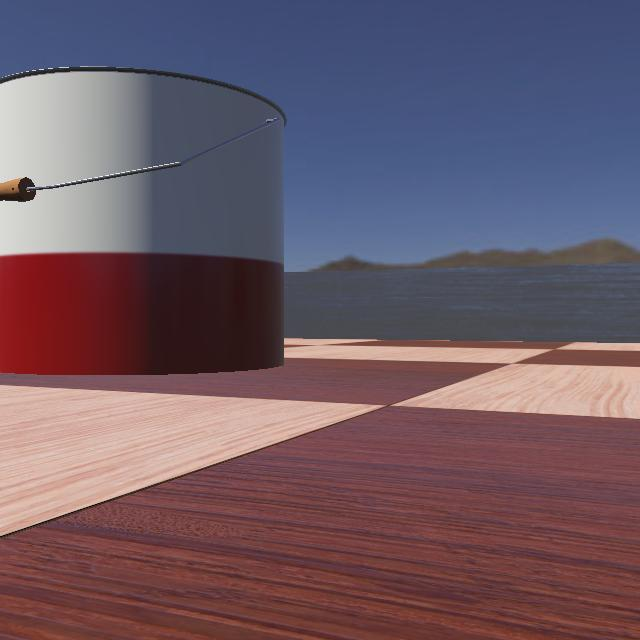paint-bucket: (0, 36, 292, 384)
